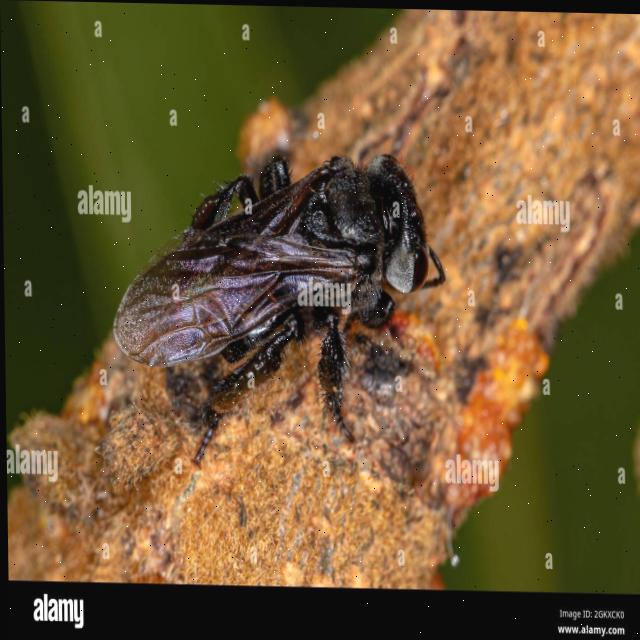Meliponula: (115, 122, 440, 421)
